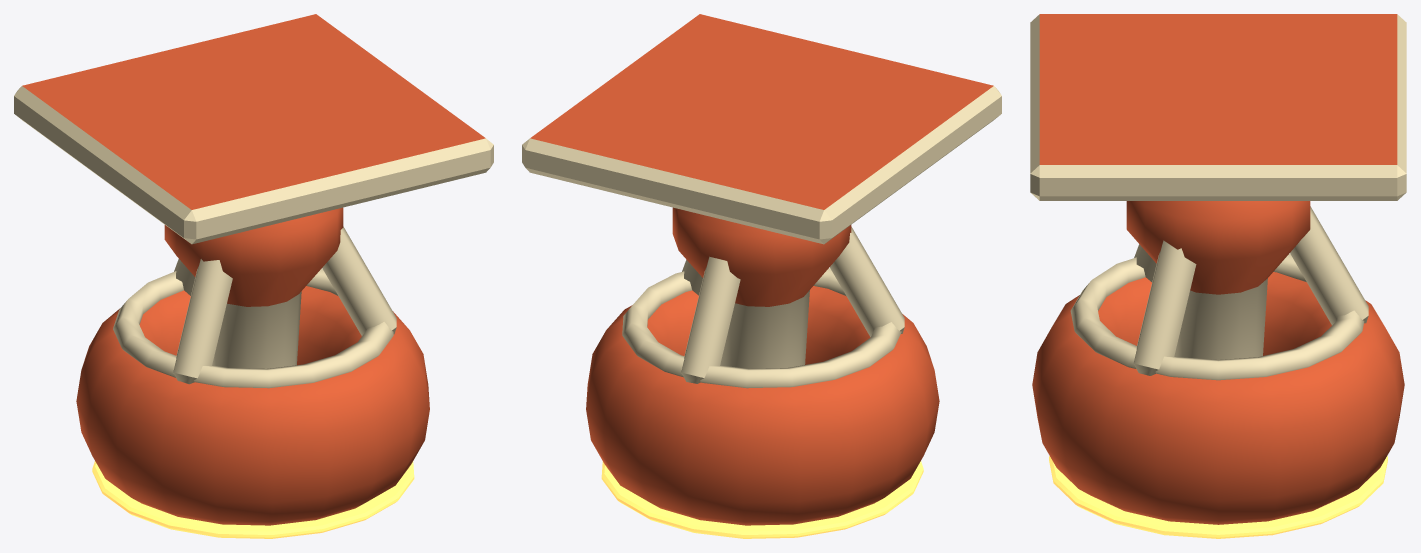
File: R4M_HoverEngine_LOD1.fbx
3 renders of one model, left to right at view 1: azimuth 30°, elevation 25°; view 2: azimuth 150°, elevation 25°; view 3: azimuth 270°, elevation 25°, orthographic. The views are drawn at different scales.
Parts seen in each view (by area): view 1: R4M_HoverEngine_LOD1; view 2: R4M_HoverEngine_LOD1; view 3: R4M_HoverEngine_LOD1.
Part boxes in pixels (x1,y1,x2,y2): R4M_HoverEngine_LOD1: [14, 14, 493, 538]; R4M_HoverEngine_LOD1: [522, 14, 1001, 538]; R4M_HoverEngine_LOD1: [1030, 14, 1406, 538].
Bounding box in the file's own units: 0.52 × 0.577 × 0.52.
